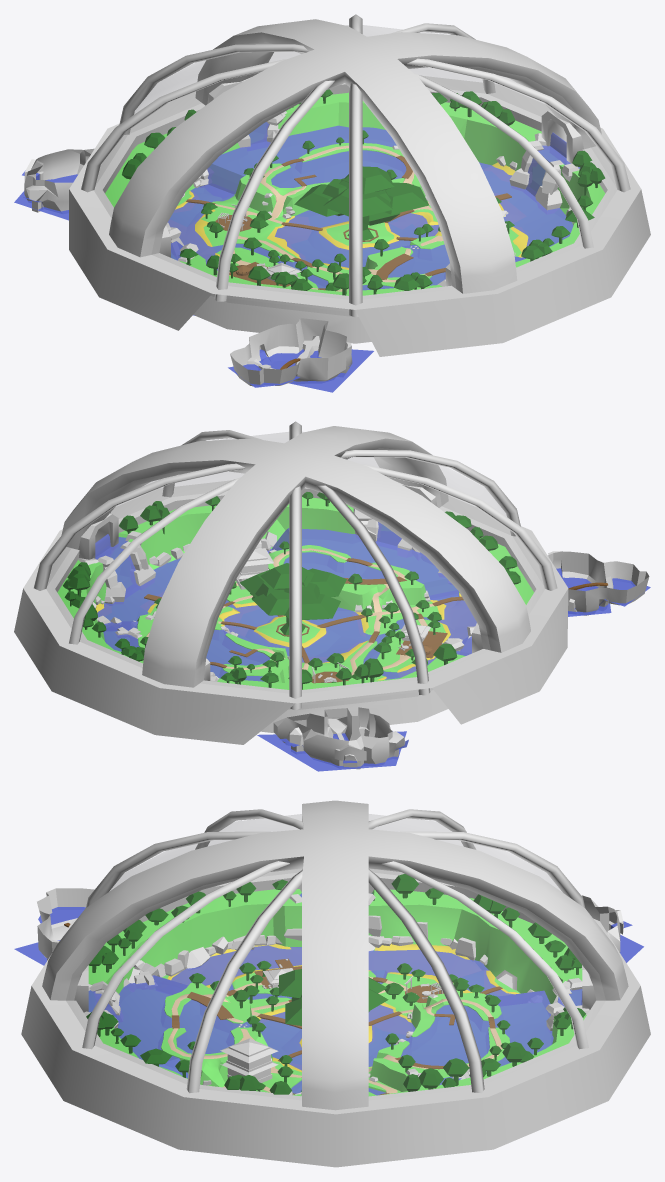
File: BlockoutV3.fbx
The picture shows the model from 3 angles, top to bottom: view 1: azimuth 30°, elevation 25°; view 2: azimuth 150°, elevation 25°; view 3: azimuth 270°, elevation 25°; orthographic projection. The views are drawn at different scales.
Visible parts, largest first — view 1: Glass, Sphere.002, Glass.001, Cube, Sphere.001, Cube.001, Cube.002, Cylinder.001, Cube.199, Cube.118, Cube.030, Cube.198; view 2: Glass, Sphere.002, Glass.001, Cube, Sphere.001, Cube.001, Cube.002, Cylinder.001, Cube.030, Cube.198, Cube.118, Cube.199 (+1 smaller); view 3: Glass, Glass.001, Sphere.002, Cube, Sphere.001, Cube.002, Cube.001, Cube.118, Cylinder.001, Cube.119, Cube.199.
Boxes of the visible parts, x1,y1,x2,y2 form: Glass: (94, 25, 616, 311); Sphere.002: (109, 19, 601, 293); Glass.001: (69, 75, 650, 356); Cube: (24, 92, 605, 386); Sphere.001: (81, 14, 630, 317); Cube.001: (167, 162, 573, 315); Cube.002: (207, 125, 525, 290); Cylinder.001: (294, 166, 429, 240); Cube.199: (228, 349, 373, 392); Cube.118: (215, 145, 443, 291); Cube.030: (171, 122, 580, 260); Cube.198: (14, 170, 77, 220); Glass: (46, 432, 544, 704); Sphere.002: (61, 426, 530, 687); Glass.001: (14, 480, 568, 744); Cube: (57, 497, 649, 769); Sphere.001: (34, 421, 557, 710); Cube.001: (97, 549, 476, 679); Cube.002: (103, 528, 458, 681); Cylinder.001: (239, 563, 346, 635); Cube.030: (95, 522, 471, 655); Cube.198: (257, 731, 408, 771); Cube.118: (146, 548, 433, 675); Cube.199: (556, 568, 650, 616); Glass: (66, 814, 605, 1099); Glass.001: (21, 868, 650, 1167); Sphere.002: (42, 800, 628, 1110); Cube: (37, 888, 623, 1096); Sphere.001: (82, 809, 588, 1093); Cube.002: (117, 975, 553, 1085); Cube.001: (171, 945, 513, 1095); Cube.118: (167, 976, 502, 1093); Cylinder.001: (279, 969, 388, 1025); Cube.119: (220, 1038, 278, 1072); Cube.199: (14, 907, 85, 965).
Bounding box in the file's own units: 24119 × 9105 × 24397.
